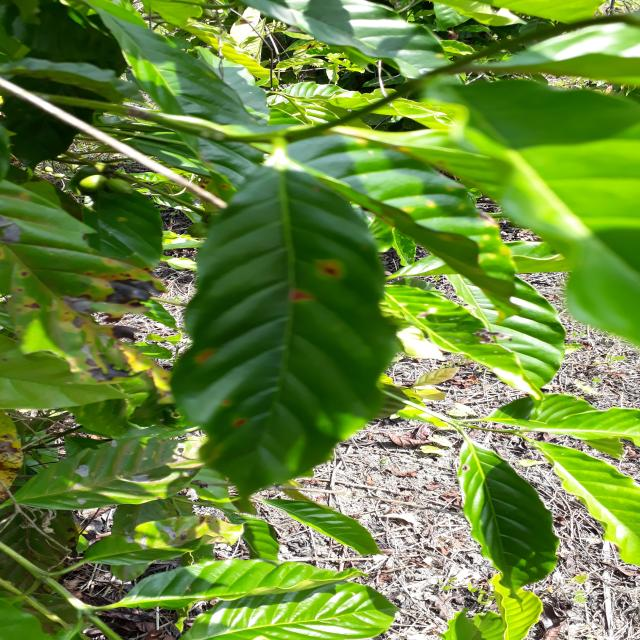Enfermedad-Roya: (170, 162, 404, 498)
